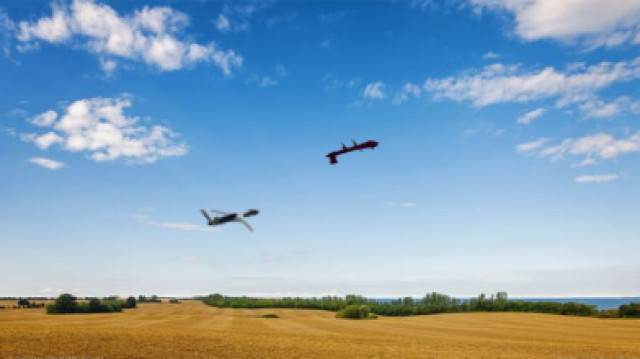military drone: (198, 207, 260, 232), (325, 138, 379, 164)
